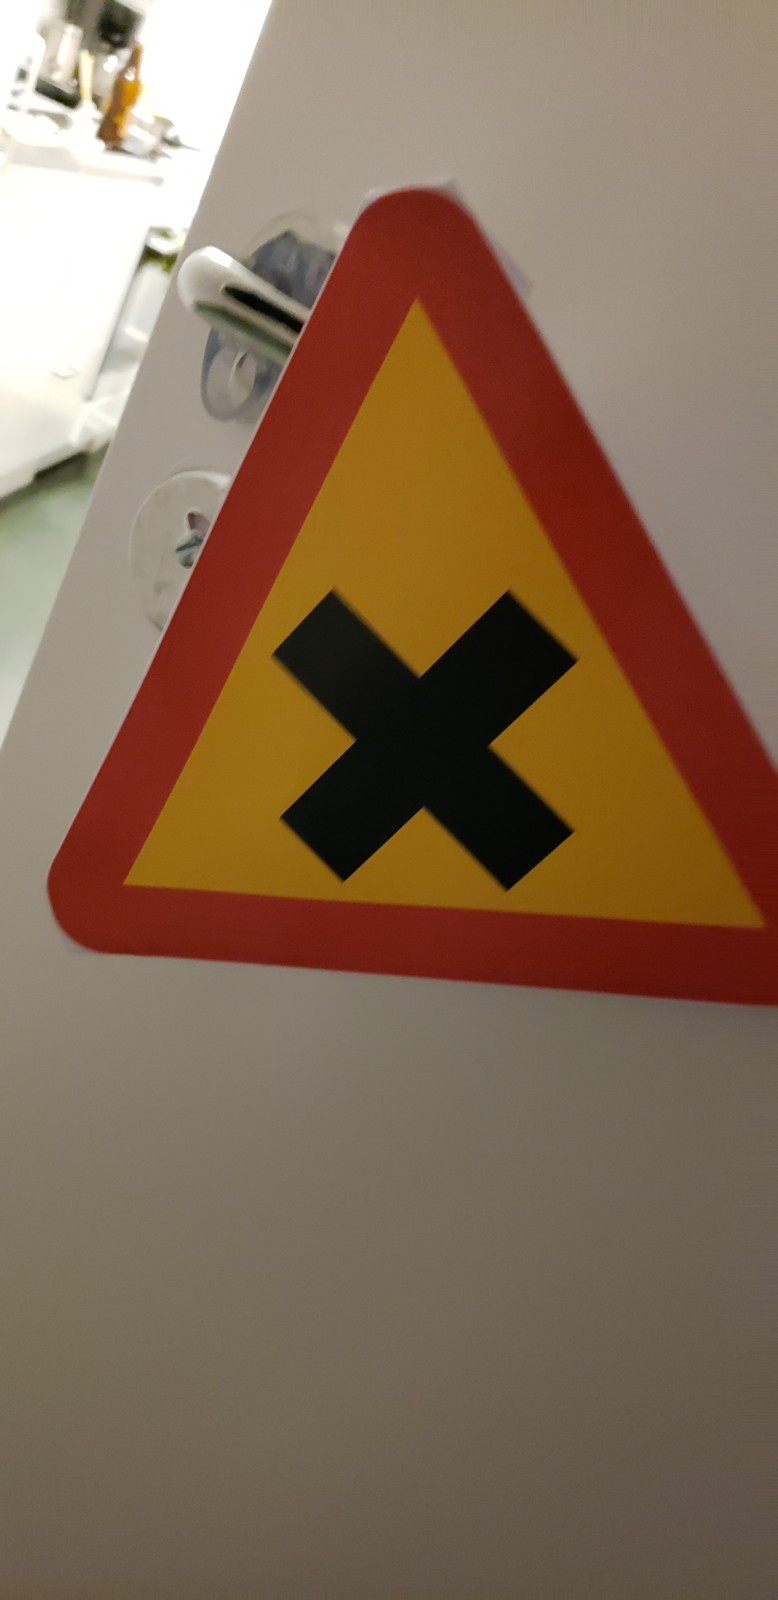junction: (29, 166, 778, 1126)
